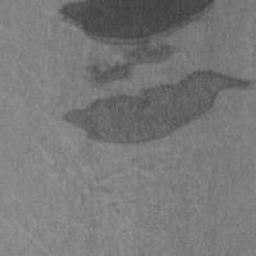Oil spot: (64, 70, 253, 145), (58, 0, 216, 87)
